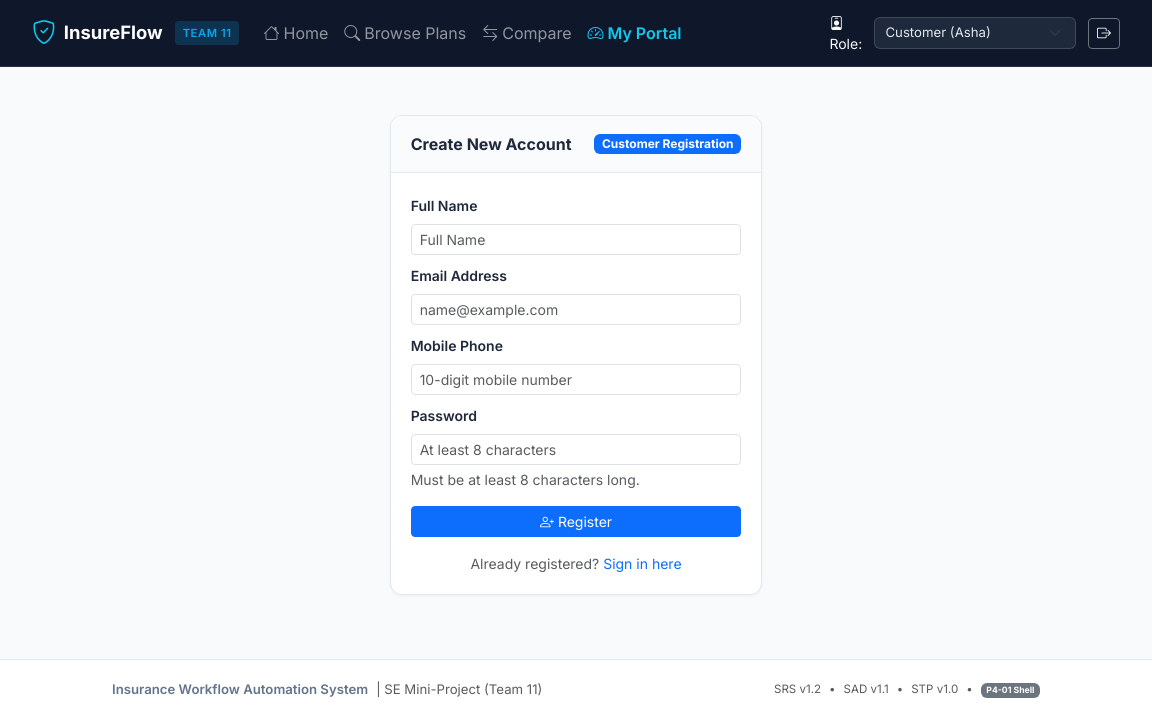
Scenario: P2-08 Authentication & KYC Screens (INS-F-001, INS-F-002, INS-NF-005) › RegisterView (INS-F-001) › displays conflict message when email is already registered (409)
The image size is (1152, 720).
In the field labelled "Full Name": (576, 240) top-left (411, 224), bottom-right (741, 255), type "Duplicate User"
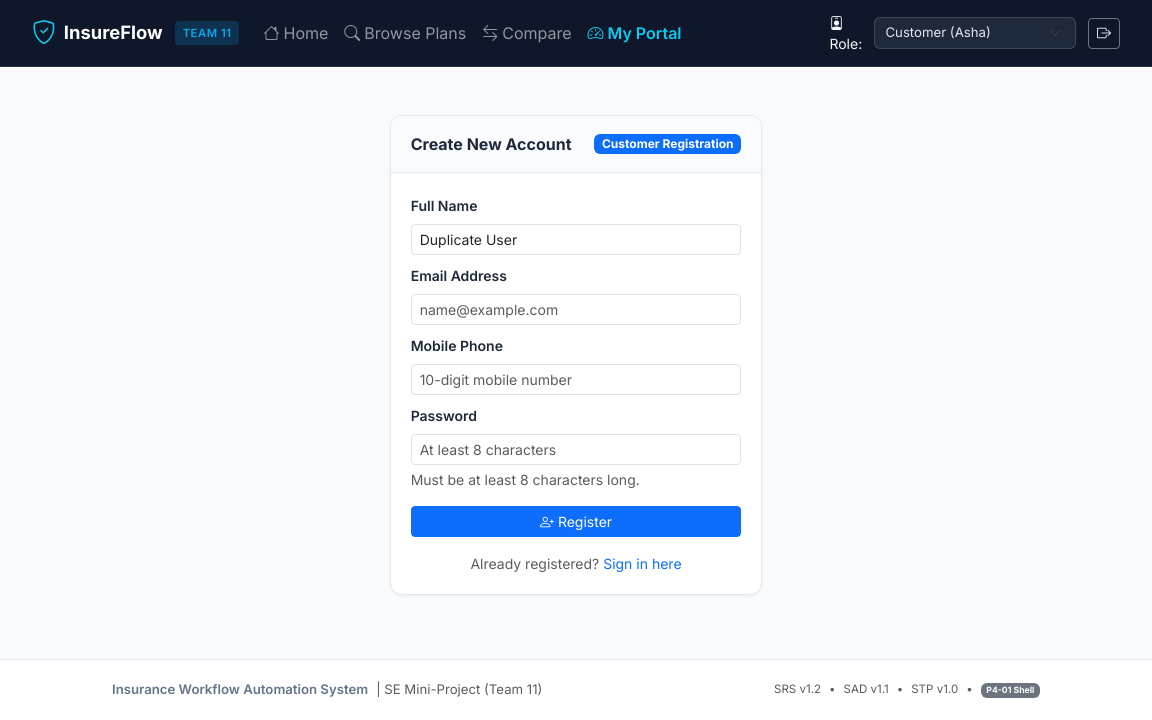
In the field labelled "Email Address": (576, 310) top-left (411, 294), bottom-right (741, 325), type "duplicate@example.test"
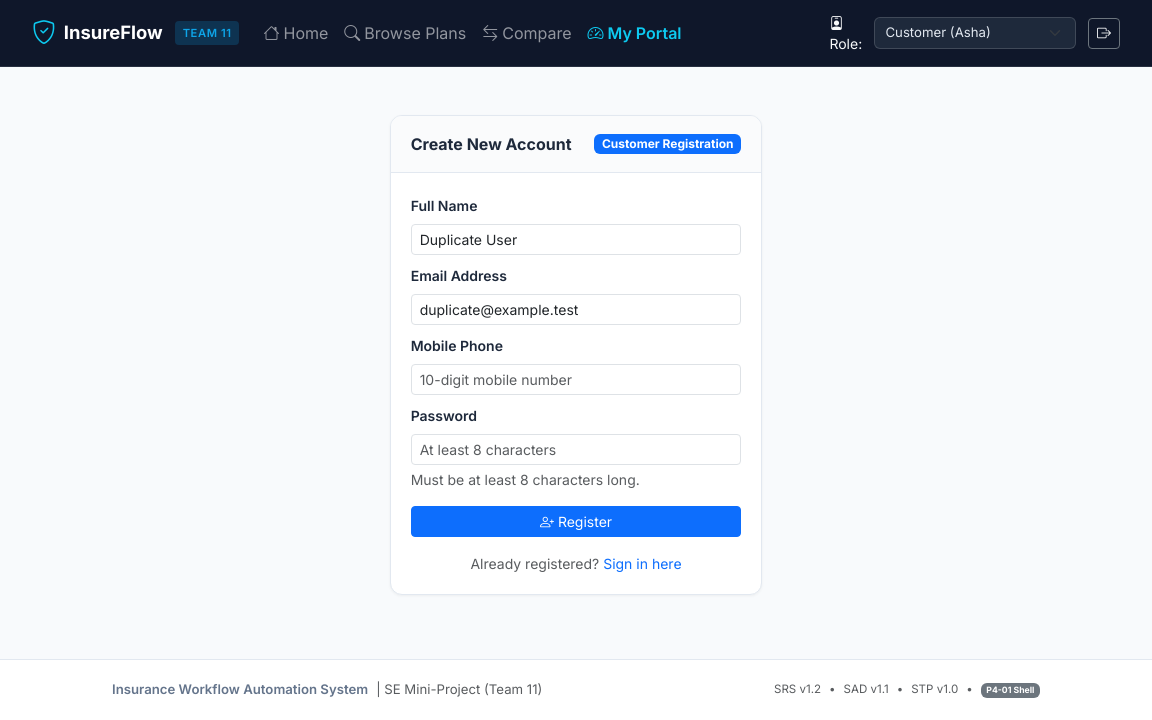
In the field labelled "Mobile Phone": (576, 380) top-left (411, 364), bottom-right (741, 395), type "9876543210"
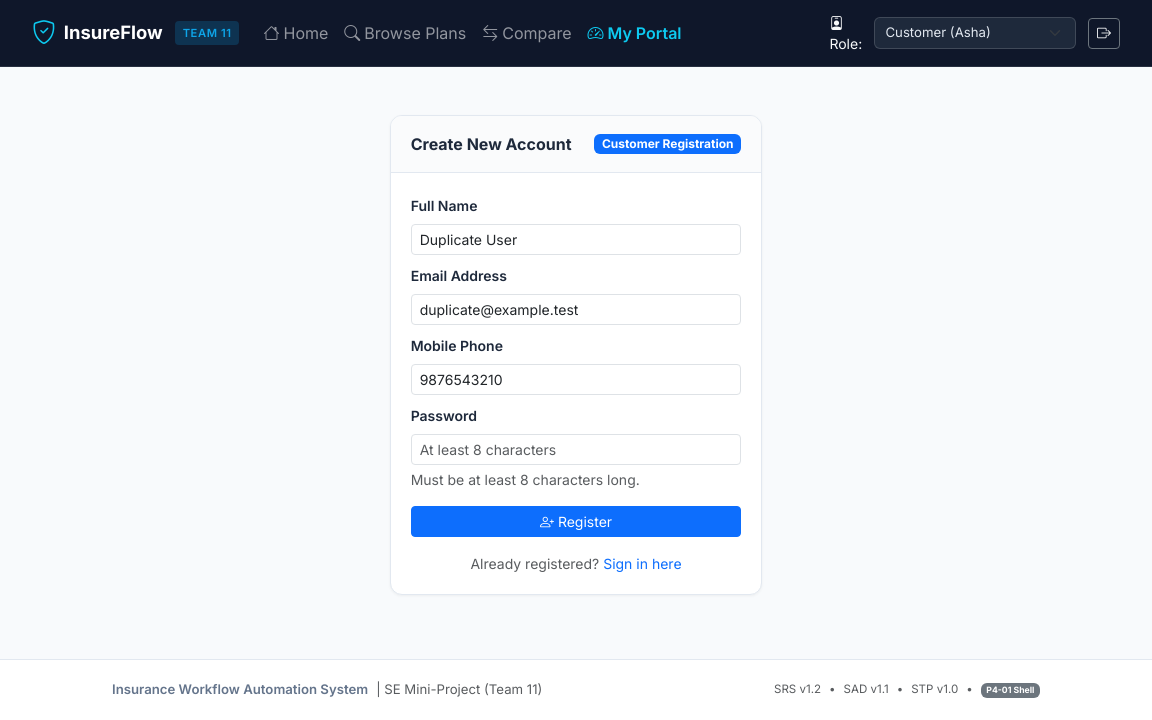
In the password field labelled "Password": (576, 450) top-left (411, 434), bottom-right (741, 465), type "SecurePass123"
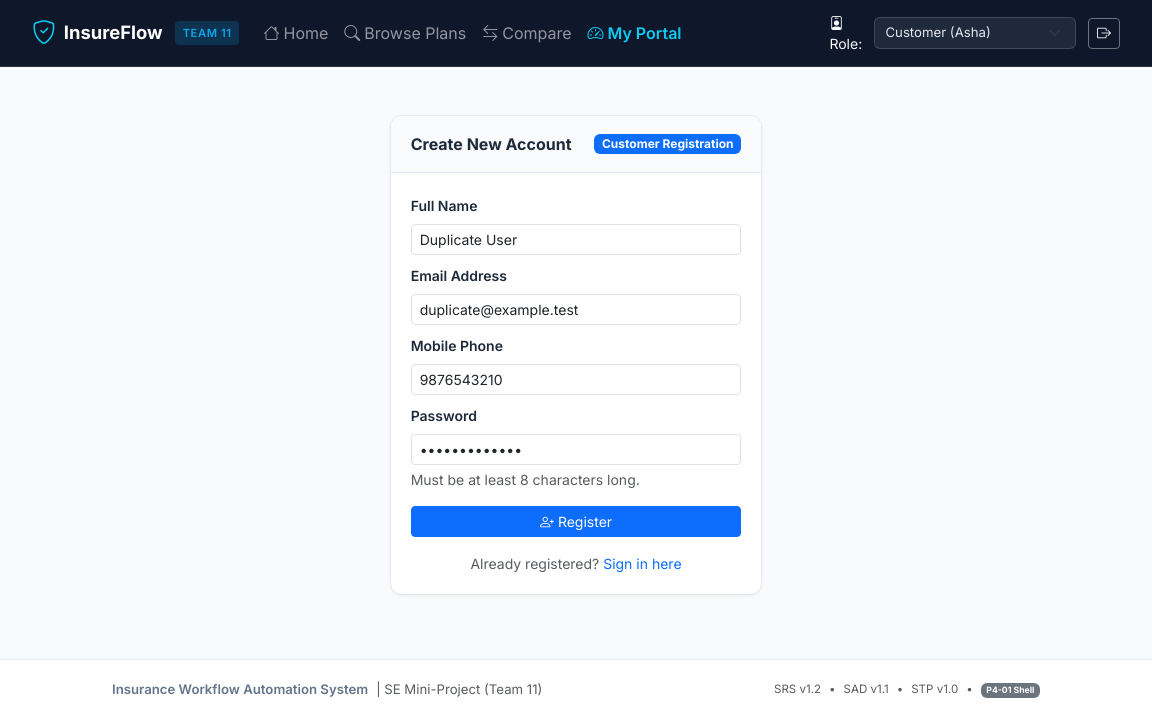
Click the button "Register": (576, 522) top-left (411, 506), bottom-right (741, 537)
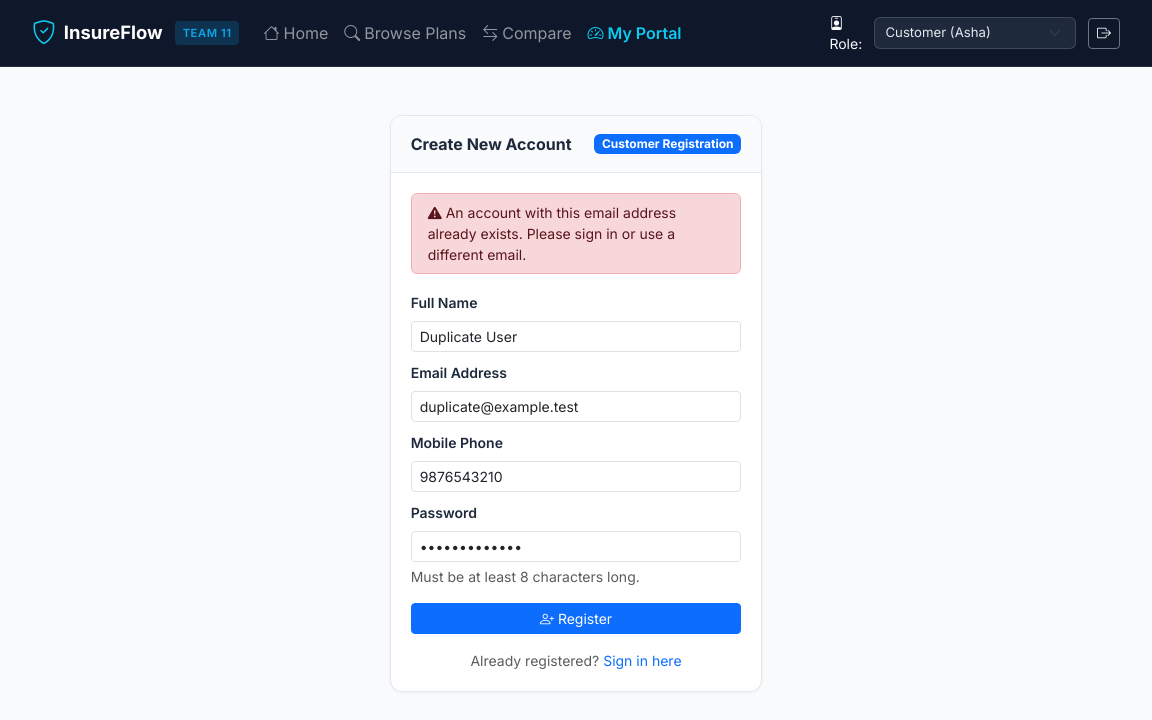
Expected: the text "An account with this email address already exists" is shown, top-left (428, 204), bottom-right (676, 263)
